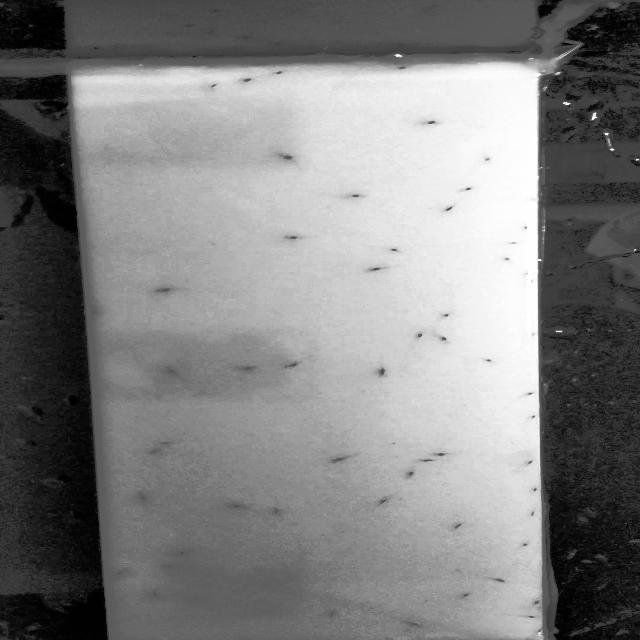shrimp: (228, 73, 261, 89), (395, 63, 422, 79), (79, 306, 107, 318), (452, 588, 475, 602), (200, 78, 220, 90), (132, 493, 152, 505), (524, 610, 544, 622), (529, 483, 546, 497), (144, 589, 163, 601), (114, 568, 130, 582), (524, 388, 542, 400), (406, 620, 424, 632), (432, 449, 453, 459), (162, 366, 181, 377), (269, 68, 289, 78), (324, 610, 344, 620), (432, 311, 454, 320), (453, 518, 468, 531), (156, 285, 172, 297), (385, 245, 404, 255), (332, 456, 351, 466), (531, 598, 550, 608), (229, 500, 246, 511), (241, 364, 259, 374), (376, 366, 391, 378), (515, 411, 535, 420), (521, 540, 536, 552), (534, 630, 554, 639), (407, 468, 424, 478), (164, 562, 181, 572), (479, 357, 497, 366), (375, 497, 393, 506), (524, 459, 540, 469), (529, 509, 542, 521), (286, 232, 301, 242), (367, 264, 383, 273), (508, 237, 522, 247), (498, 254, 515, 262), (422, 457, 439, 465), (280, 153, 295, 162), (481, 153, 493, 164), (177, 548, 190, 558), (273, 508, 289, 516), (424, 118, 438, 127), (350, 191, 364, 200), (441, 205, 456, 213), (147, 448, 162, 456), (287, 361, 300, 370), (440, 336, 451, 346), (159, 439, 172, 447), (191, 595, 202, 604), (520, 225, 534, 232), (417, 331, 428, 339), (465, 186, 475, 194), (496, 576, 504, 585)
